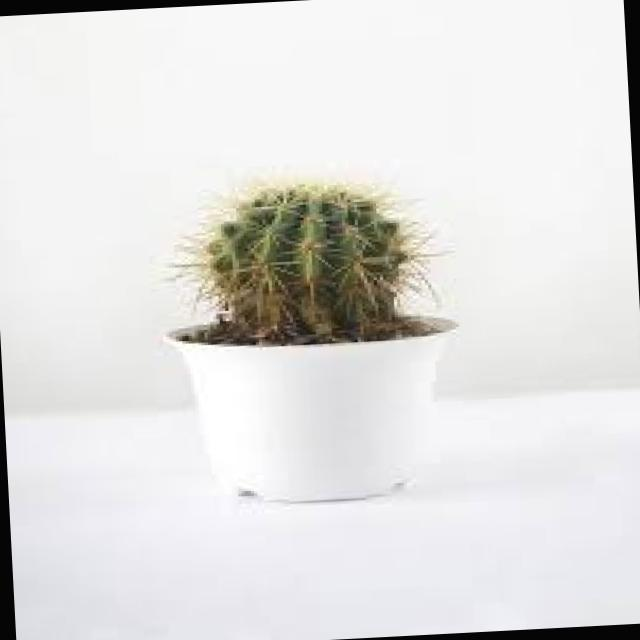cactus: (152, 132, 480, 320)
